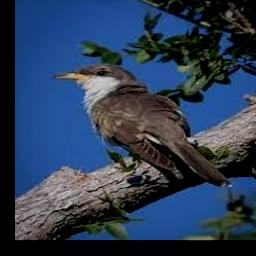Cuckoo: (54, 64, 234, 187)
